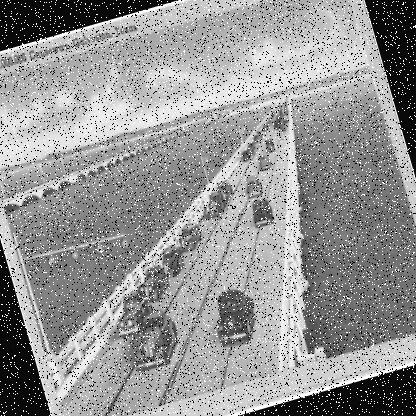Car: (122, 308, 184, 374), (207, 290, 260, 352), (110, 289, 160, 342), (132, 263, 176, 308), (158, 245, 188, 281), (174, 221, 206, 254), (248, 194, 276, 228), (198, 190, 230, 218), (242, 172, 264, 200), (216, 180, 237, 204), (256, 151, 274, 173), (262, 135, 276, 156)
